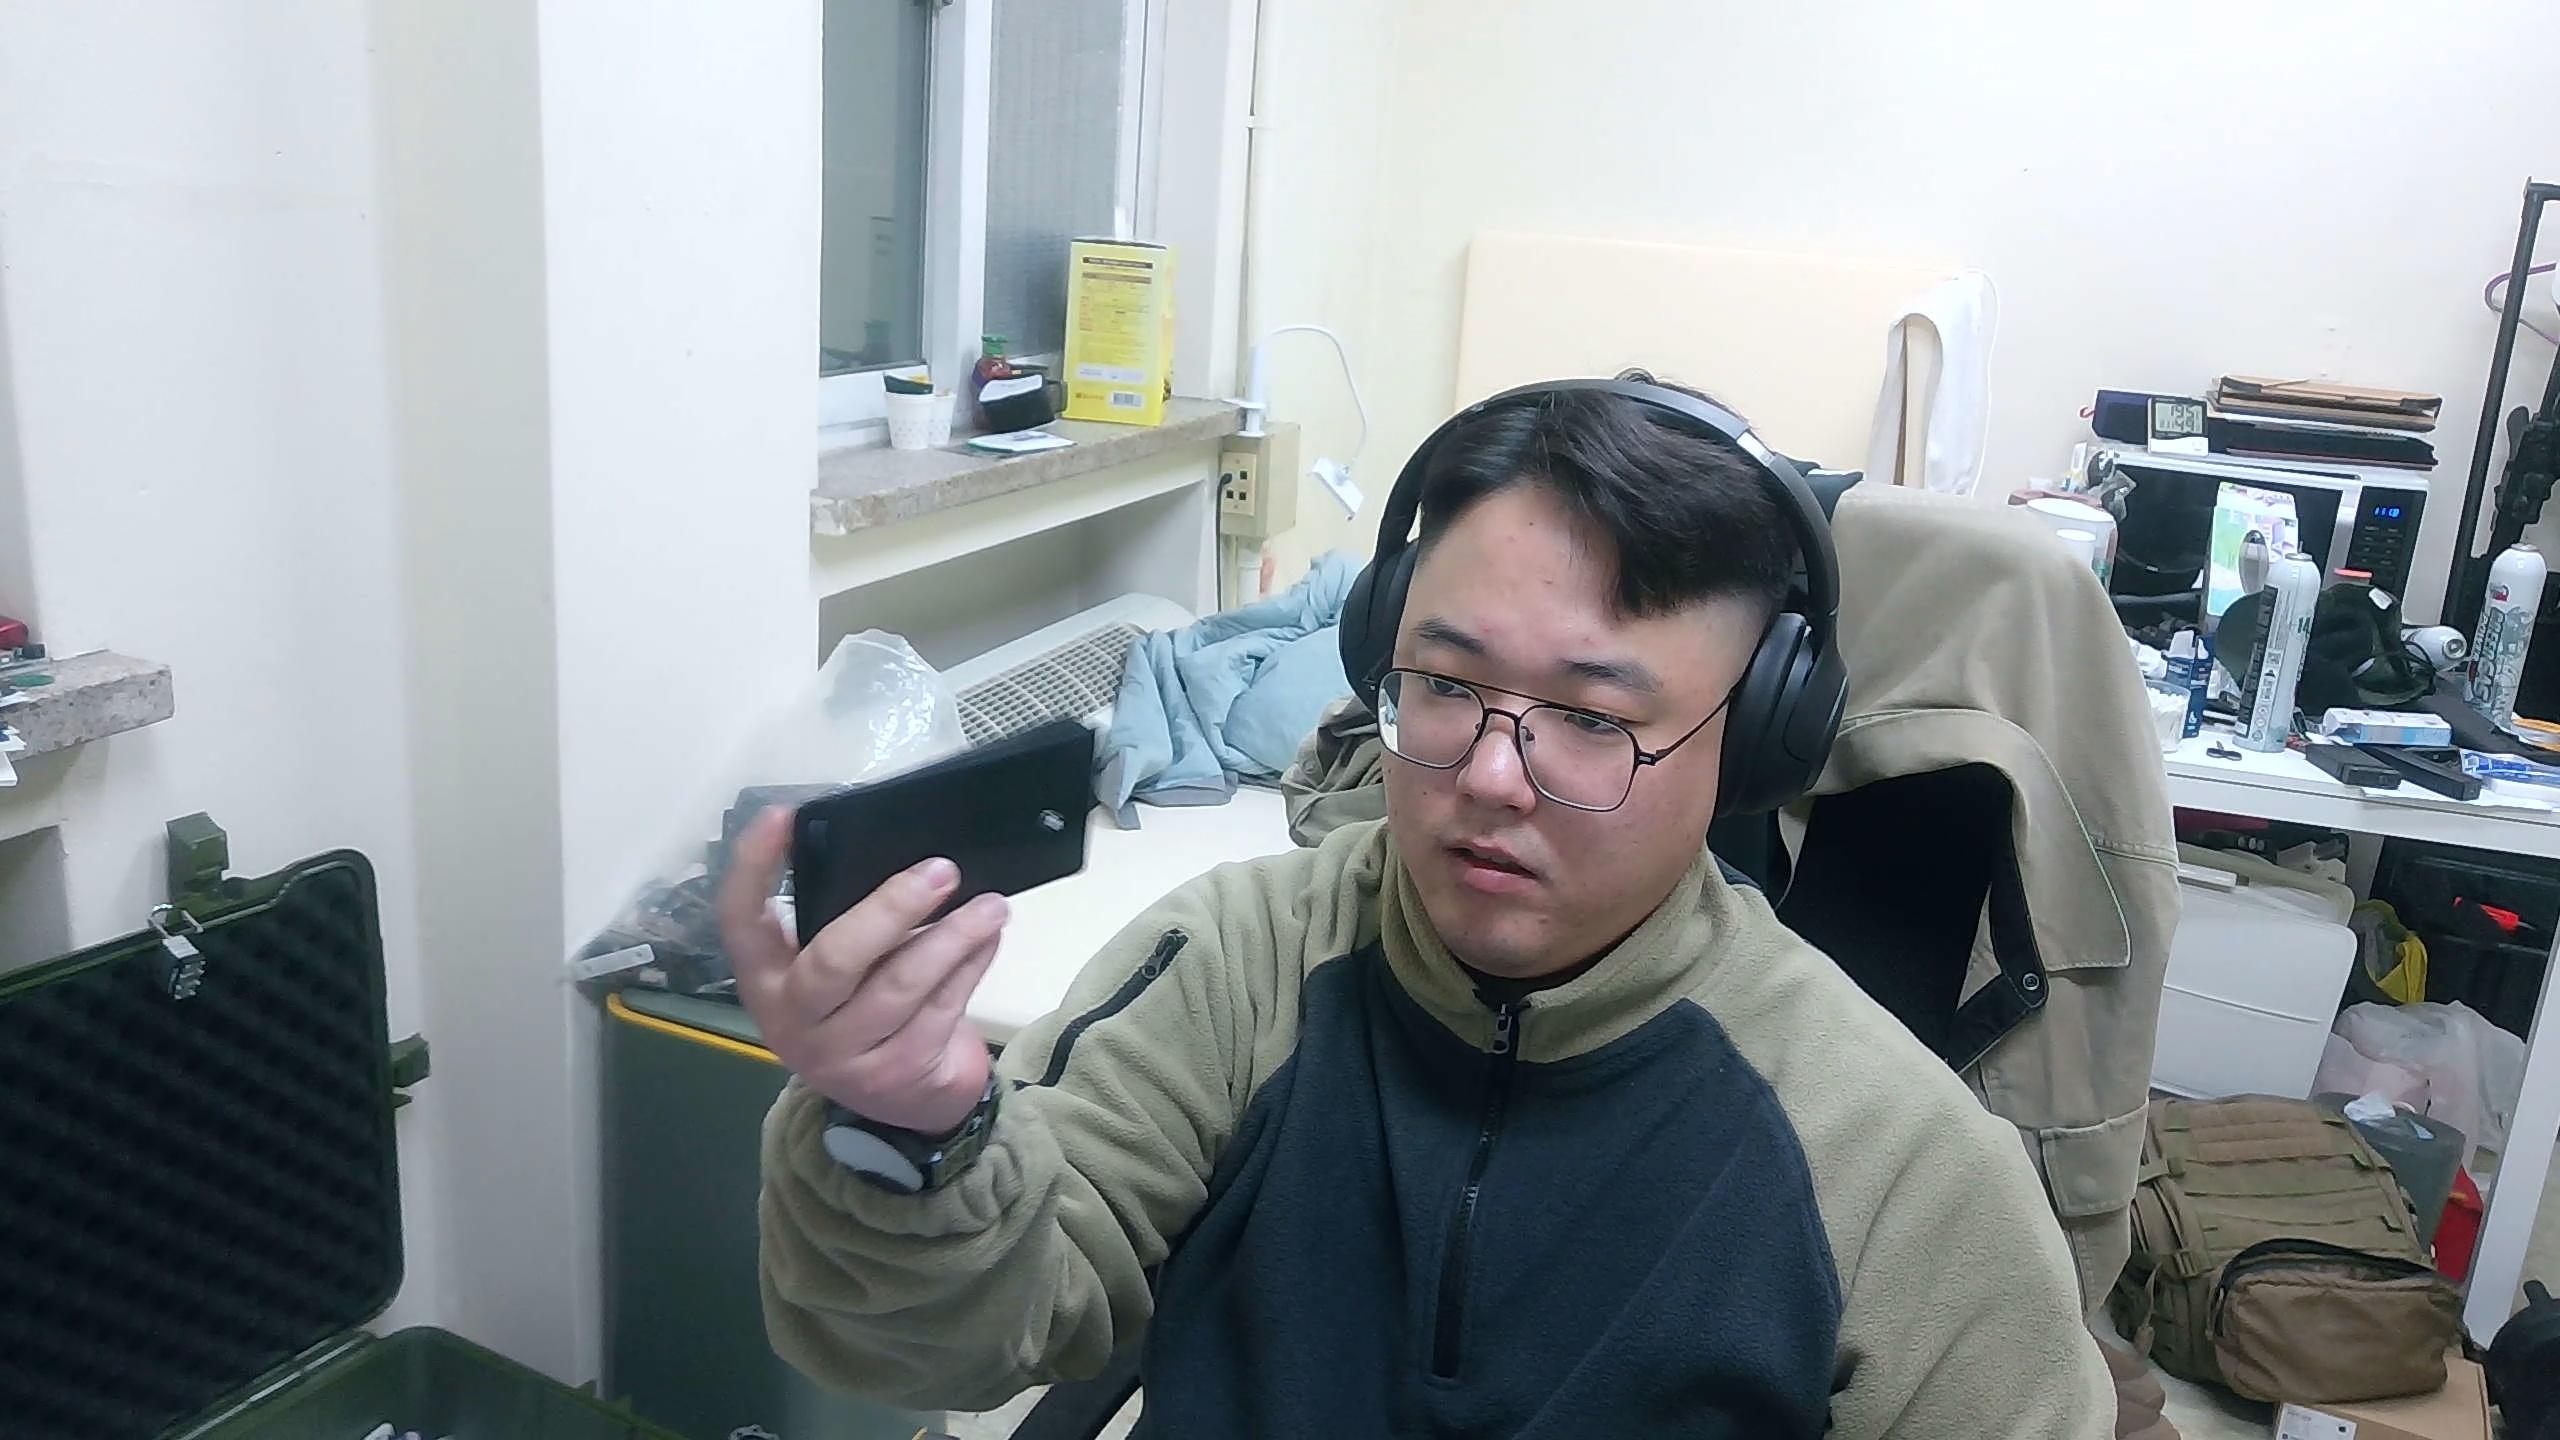earphone: (784, 714, 1102, 955)
